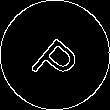P_NE: (24, 24, 86, 86)
